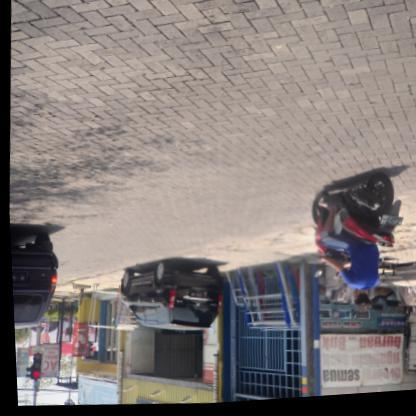red: (26, 352, 40, 380)
